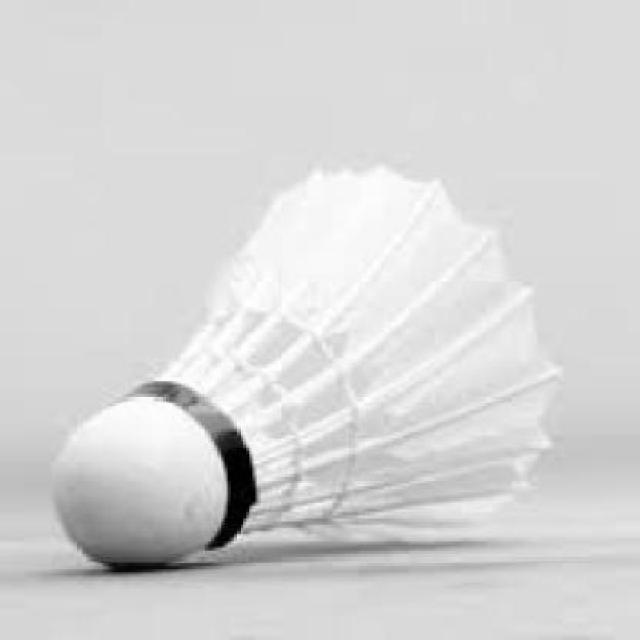Shuttlecock: (52, 160, 563, 571)
